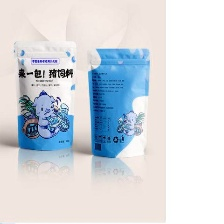snack: (82, 42, 155, 161), (8, 36, 81, 154)
